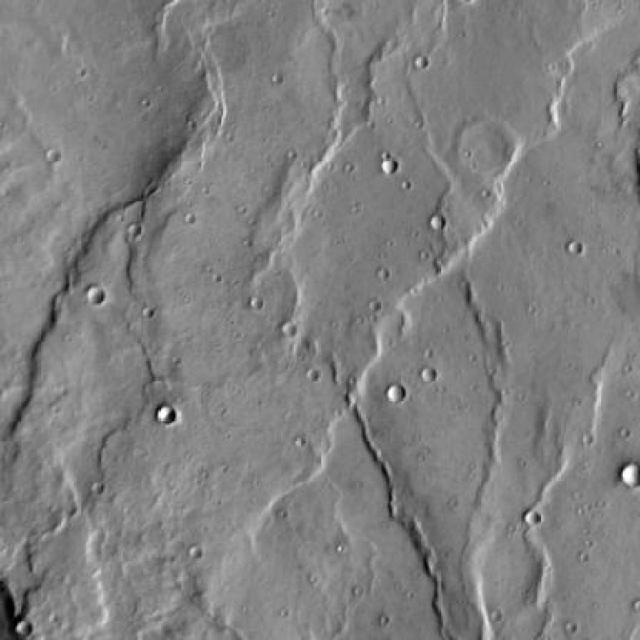crater: (451, 120, 503, 172), (610, 460, 638, 486), (153, 406, 175, 426), (380, 156, 398, 172), (86, 290, 102, 307), (424, 215, 442, 230)
